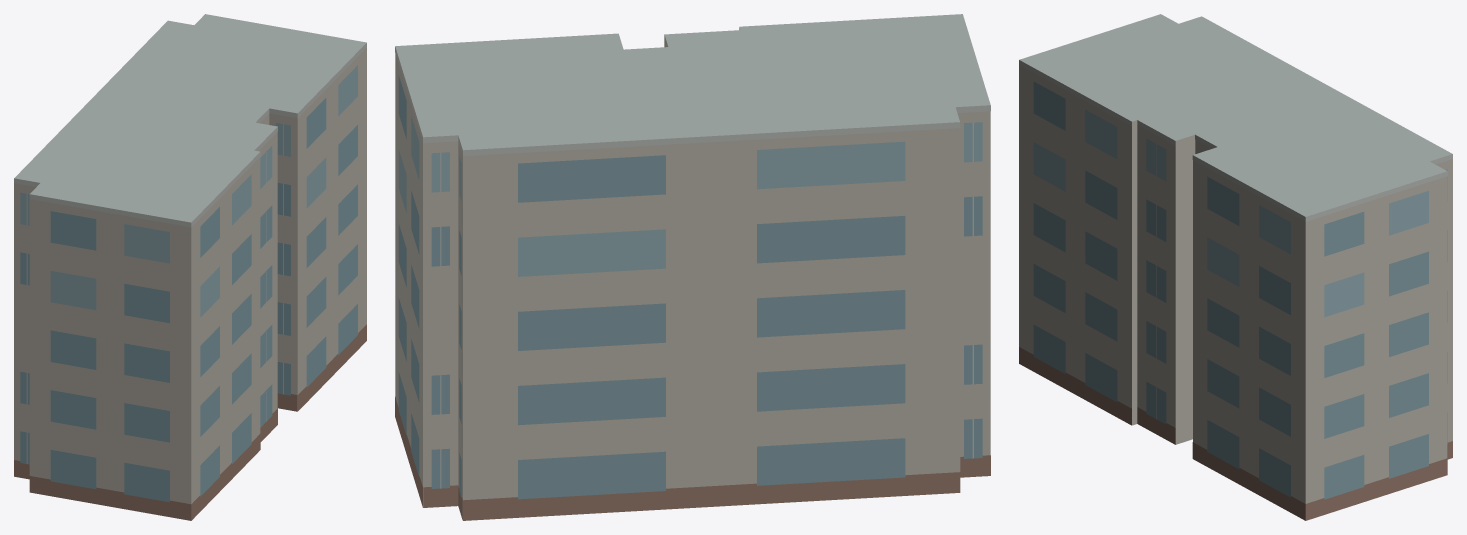
File: survey-upis-32657140.glb
3 views of the same model, side by side, from view 1: azimuth 30°, elevation 25°; view 2: azimuth 150°, elevation 25°; view 3: azimuth 270°, elevation 25° (orthographic). The views are drawn at different scales.
Parts seen in each view (by area): view 1: survey-upis-32657140.tmp; view 2: survey-upis-32657140.tmp; view 3: survey-upis-32657140.tmp.
Part boxes in pixels (x1,y1,x2,y2): survey-upis-32657140.tmp: [14, 14, 366, 520]; survey-upis-32657140.tmp: [395, 14, 990, 520]; survey-upis-32657140.tmp: [1019, 14, 1452, 520].
Bounding box in the file's own units: 21.49 × 15 × 19.41.
